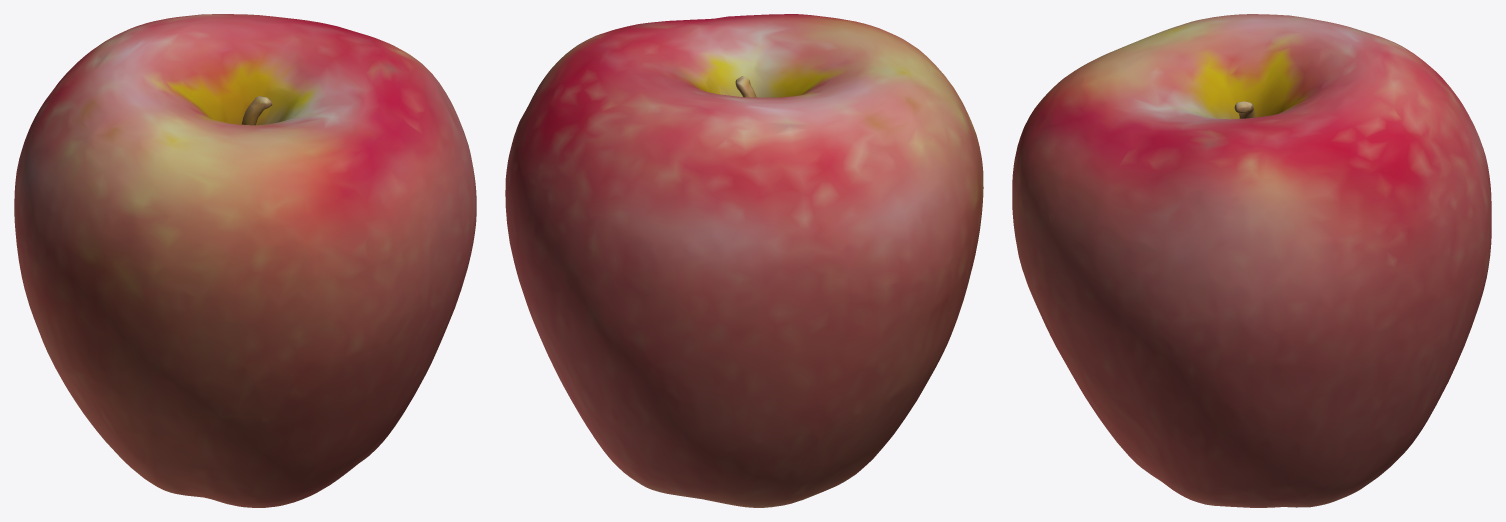
File: apple.glb
3 views of the same model, side by side, from view 1: azimuth 30°, elevation 25°; view 2: azimuth 150°, elevation 25°; view 3: azimuth 270°, elevation 25° (orthographic). The views are drawn at different scales.
Visible parts, largest first — view 1: apple; view 2: apple; view 3: apple.
Part boxes in pixels (bbox=[...]): apple: bbox=[14, 14, 476, 507]; apple: bbox=[505, 14, 983, 507]; apple: bbox=[1012, 14, 1491, 507].
Bounding box in the file's own units: 0.9875 × 0.95 × 0.999.
